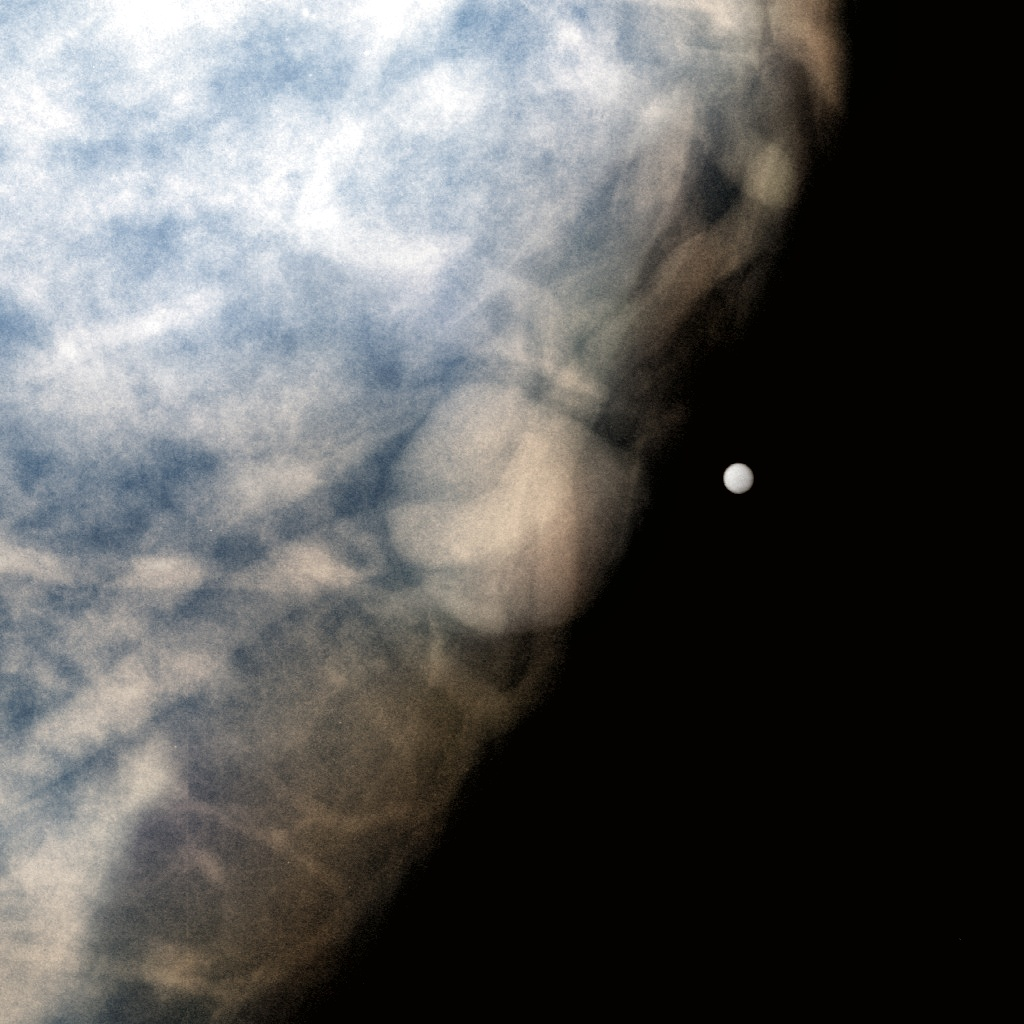tumor: (391, 389, 633, 635)
